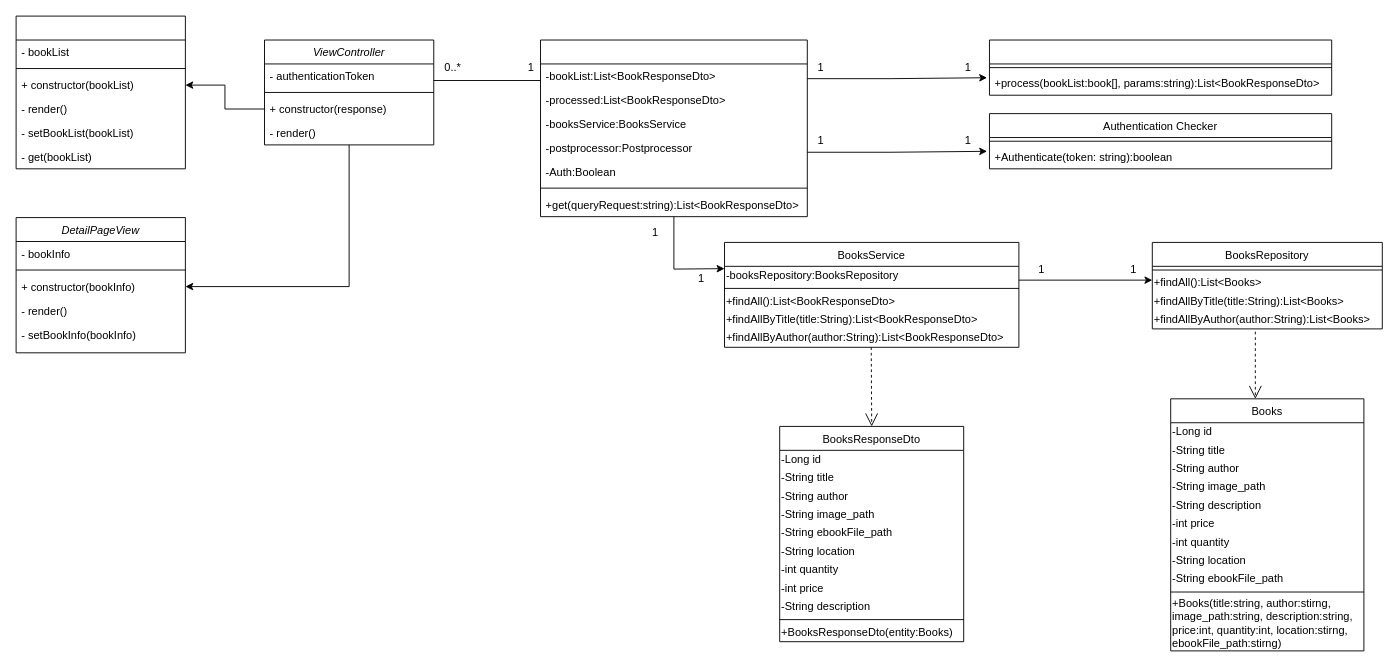
Some shapes in this 1398 by 667 pixel diagram are drawn without their labels. The box of each missing label's shape, as (x1, y1, x2, y2) in pixels:
Controller: (540, 39, 807, 217)
Postprocessor: (989, 39, 1332, 95)
SearchPageView: (15, 15, 185, 169)
